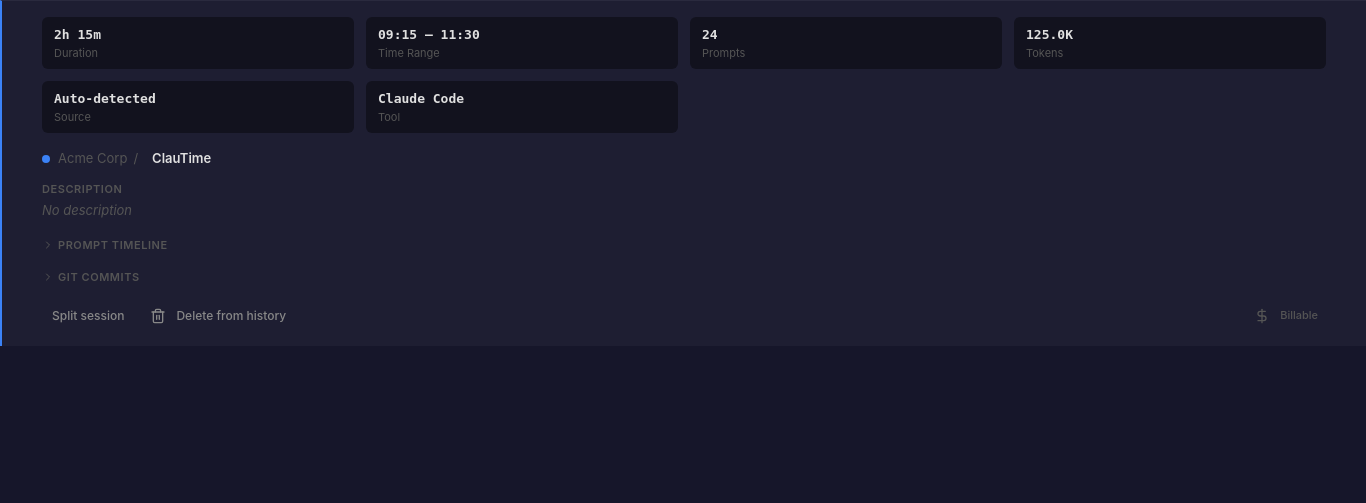
it: SessionDetailPanel › keeps split mapping failures visible without closing the session
The width and height of the screenshot is (1366, 503).
Step 1. Click the button "Split session" → (88, 316), box [42,302,134,330]
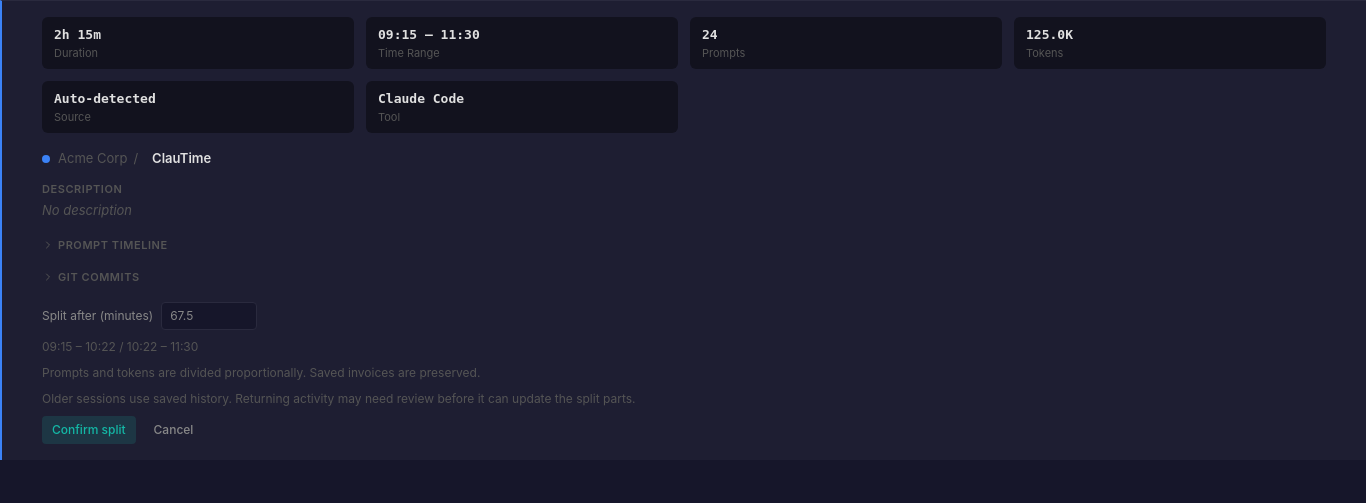
Step 2. Click the button "Confirm split" → (89, 430), box [42,416,136,444]
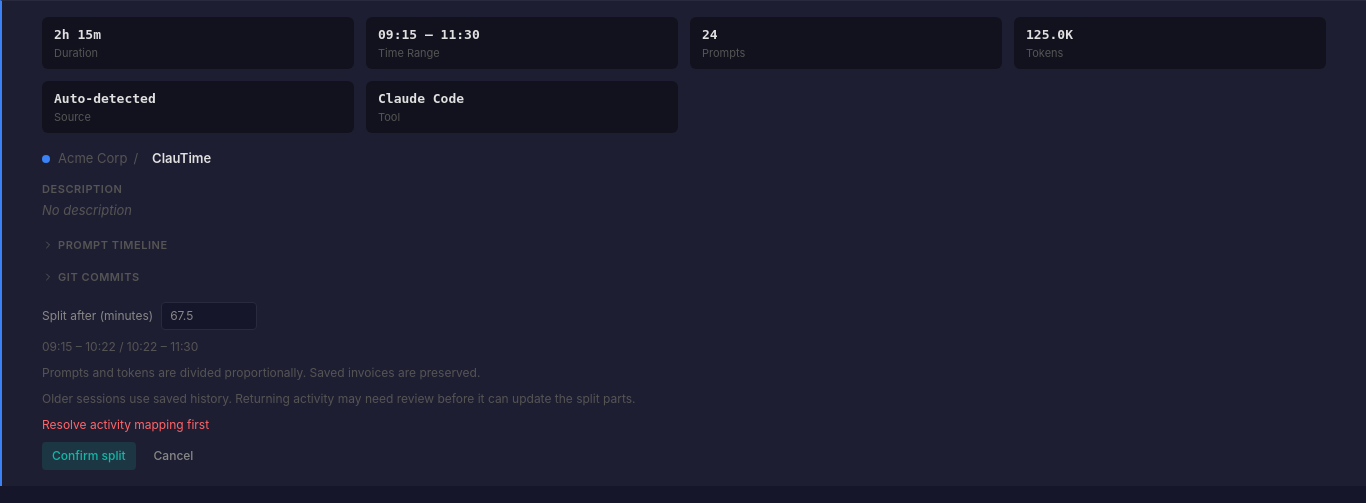
Expected: the message reads "Resolve activity mapping first", [42,416,209,432]
